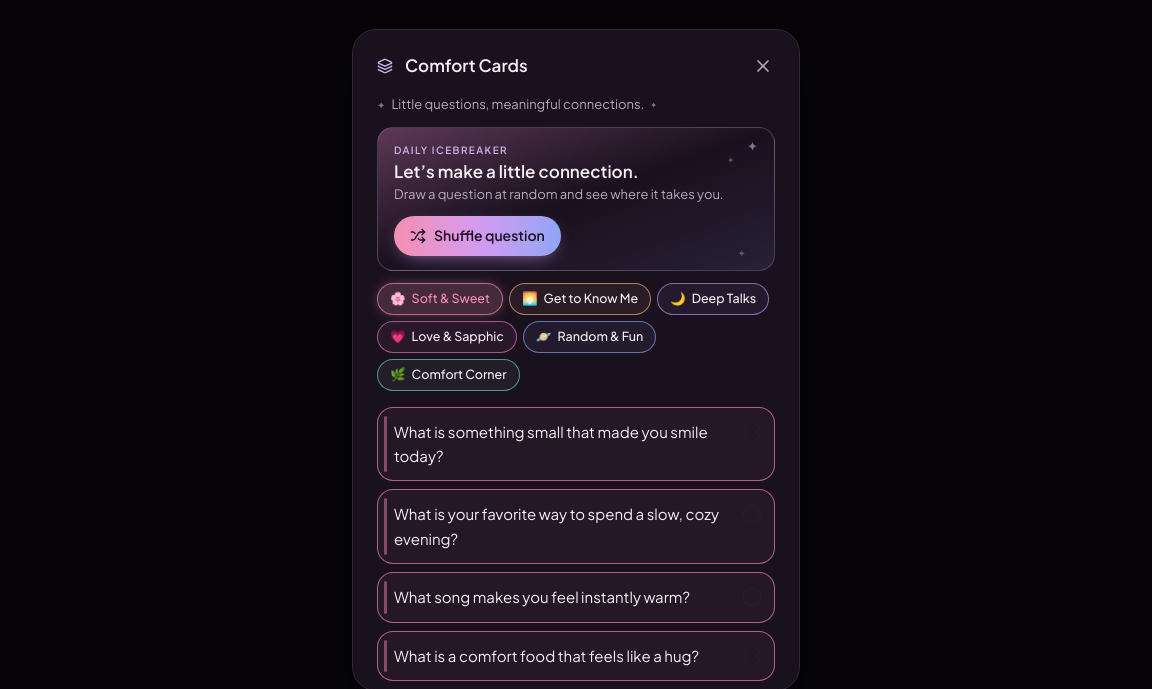
Test: Cancel clears the choice and the Send action, and the list stays
Click the button "What is something small that made you smile today?".
click(551, 431)  # box x1=377 y1=406 x2=775 y2=481
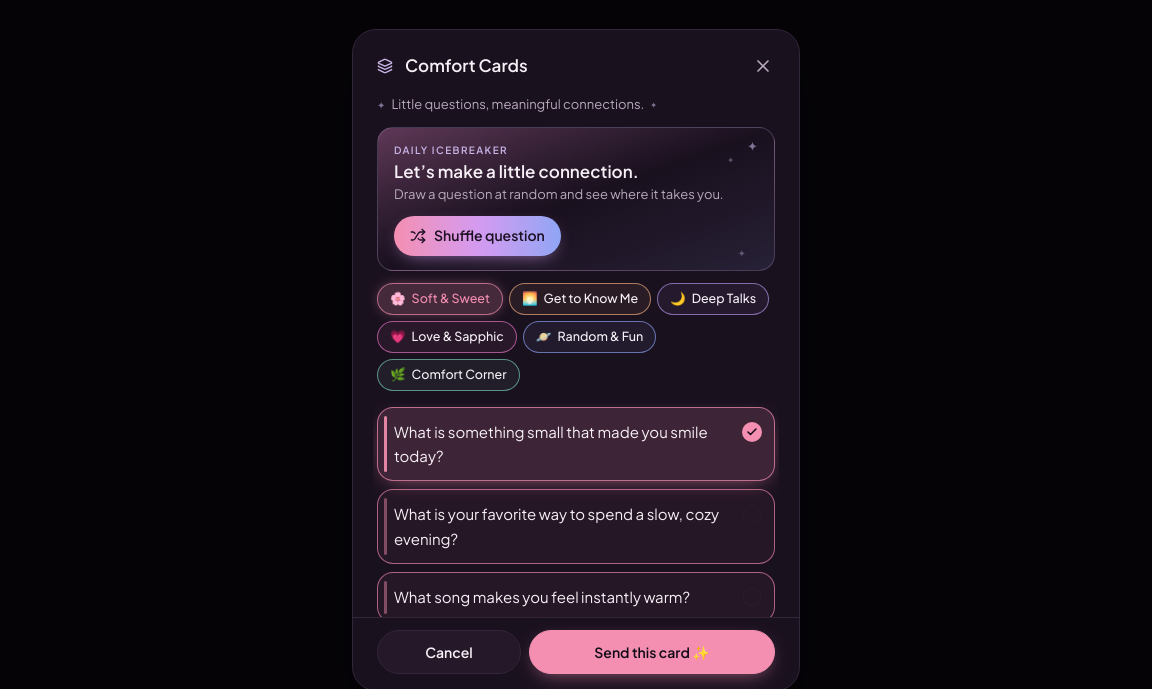
Click the button "Cancel".
click(449, 652)  # box x1=377 y1=630 x2=521 y2=674
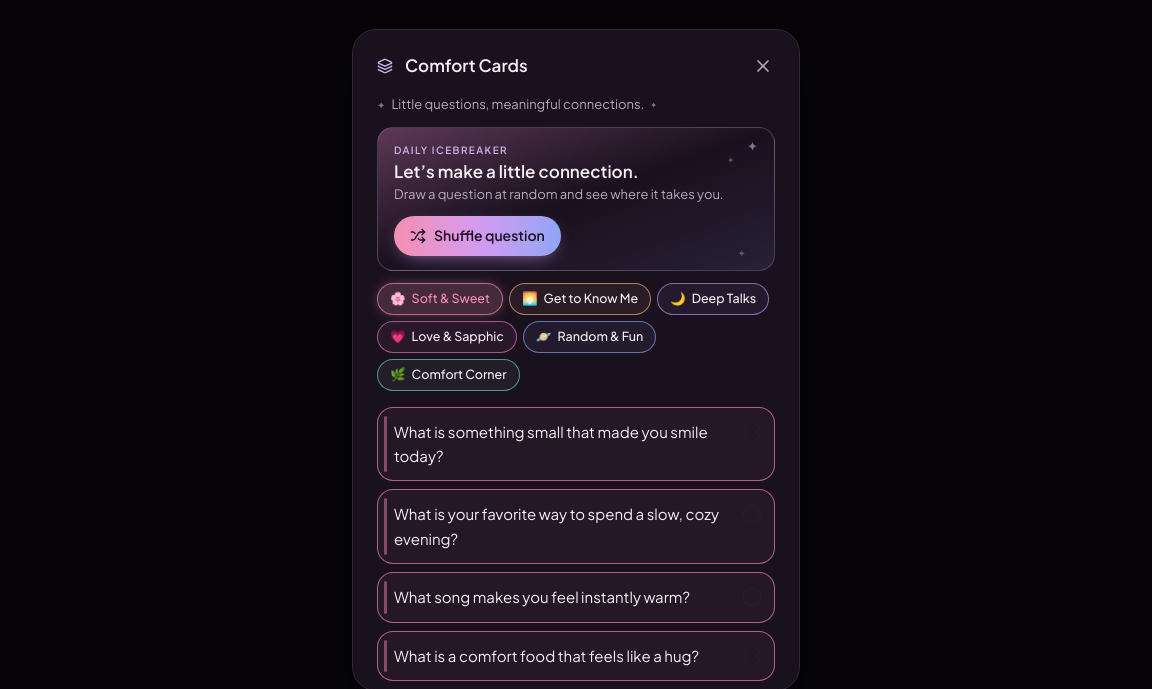
Expected: the element named "Card categories" is shown, x1=377 y1=282 x2=775 y2=390
Result: the button "Send this card" is gone
